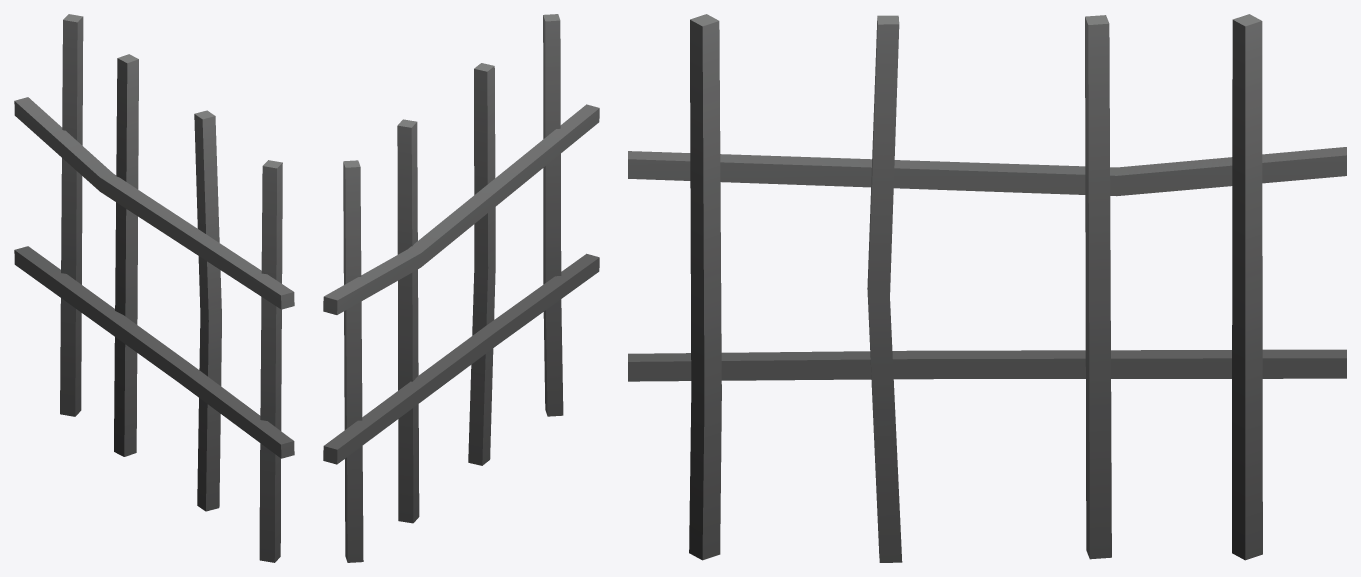
The model's file is RreinforcingBars_B_3_.obj.
3 renders of one model, left to right at view 1: azimuth 30°, elevation 25°; view 2: azimuth 150°, elevation 25°; view 3: azimuth 270°, elevation 25°, orthographic. The views are drawn at different scales.
Parts seen in each view (by area): view 1: RreinforcingBars_B_3_; view 2: RreinforcingBars_B_3_; view 3: RreinforcingBars_B_3_.
Boxes of the visible parts, x1,y1,x2,y2 form: RreinforcingBars_B_3_: (14,14,294,562); RreinforcingBars_B_3_: (323,14,599,562); RreinforcingBars_B_3_: (628,14,1346,562).
Size of the model in its own units: 0.0531 by 0.598 by 0.7276.
